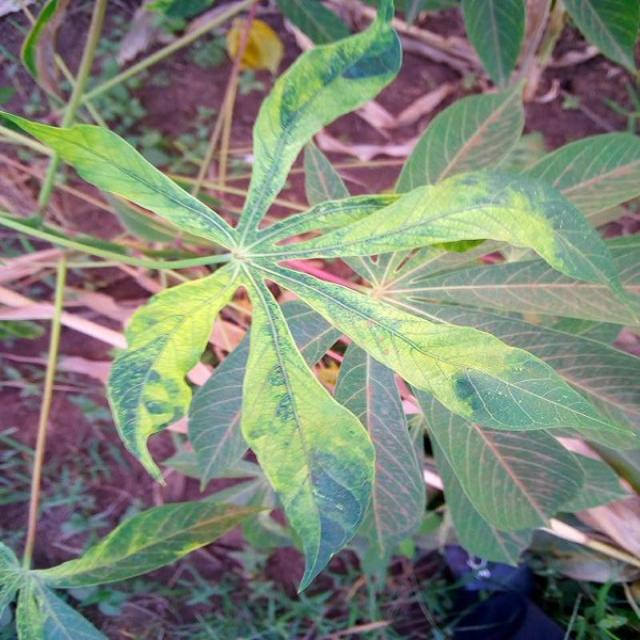cassava leaf: (1, 1, 638, 595), (238, 265, 376, 594)
